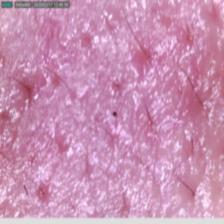Oily: (0, 11, 224, 212)
